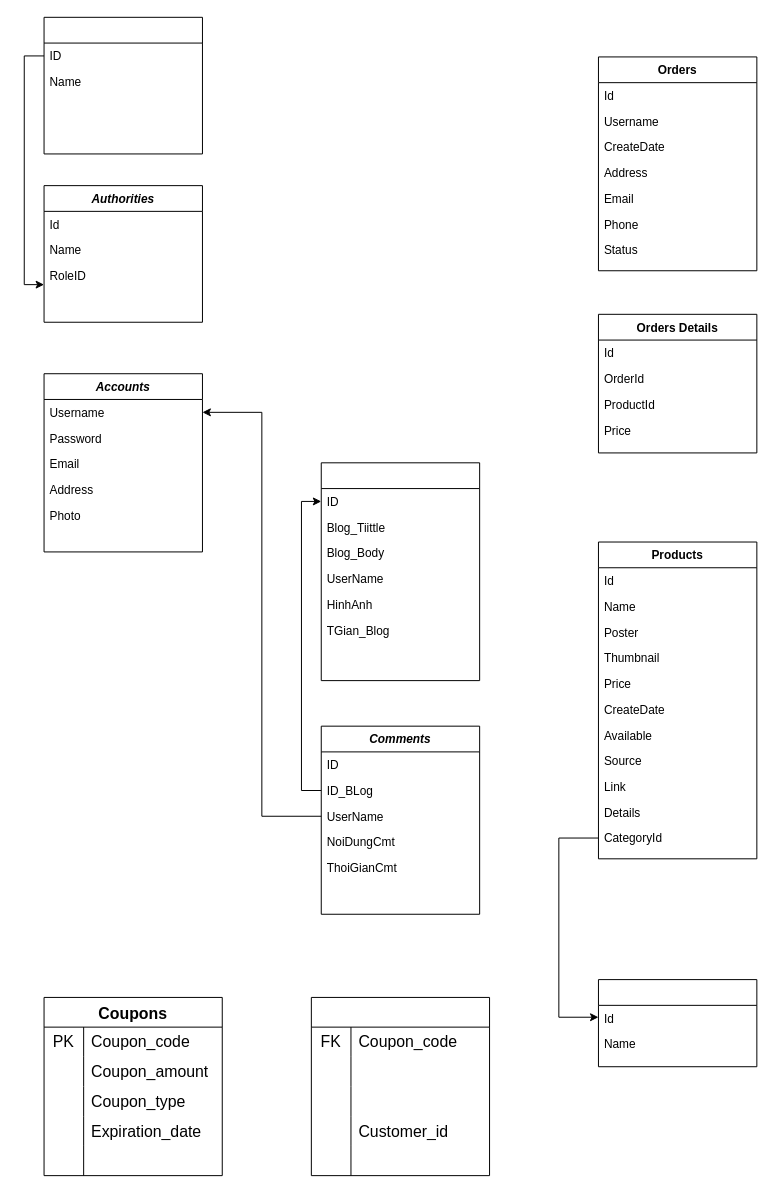
This 774x1193 diagram has some shape labels left out. The box of each missing label's shape, as (x1, y1, x2, y2) in pixels:
Blogs: (320, 462, 480, 681)
Categories: (597, 979, 757, 1067)
Coupon_owner: (310, 996, 490, 1176)
Role: (43, 16, 202, 154)
